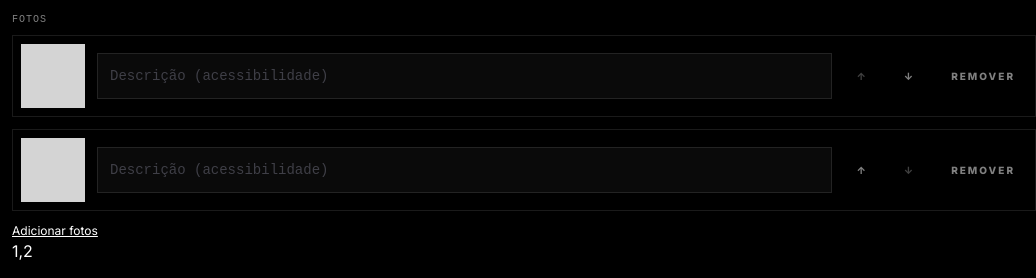
Test: ImageListField › reordena e remove
The width and height of the screenshot is (1036, 278).
Click the button named "Mover para baixo" at (909, 76), box top-left (892, 58), bottom-right (927, 94)
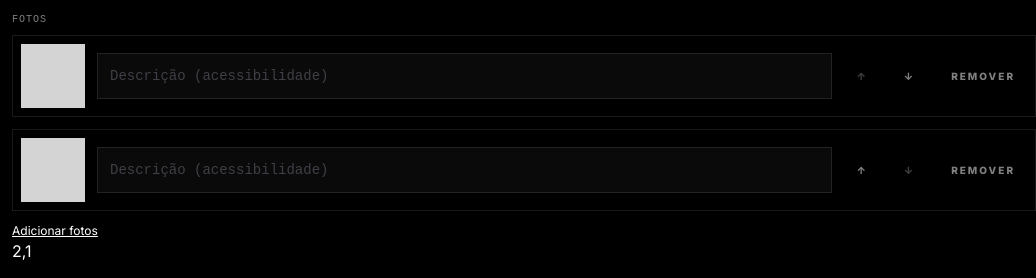
Expected: the text with test id "ids" reads "2,1", top-left (12, 241), bottom-right (32, 261)
Click the 1st button "Remover" at (983, 76), box top-left (939, 58), bottom-right (1027, 94)
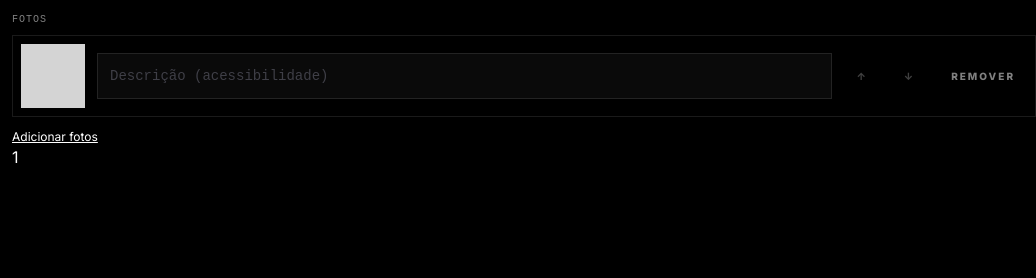
Expected: the text with test id "ids" reads "1", top-left (12, 147), bottom-right (18, 167)
